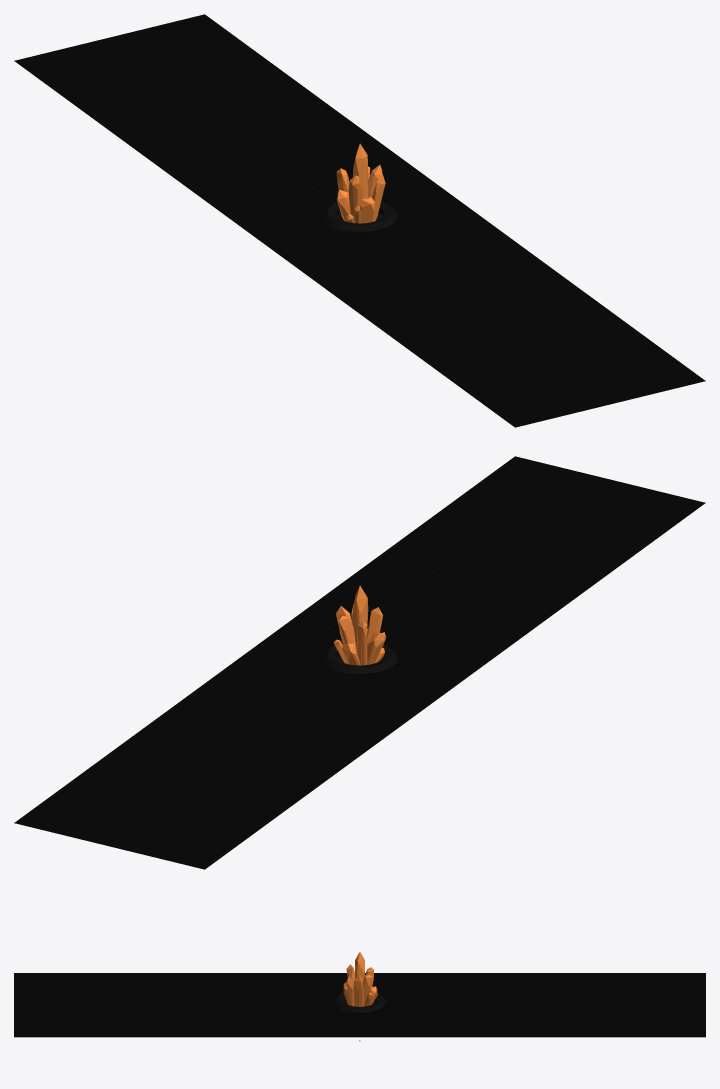
The model's file is cristal.fbx.
The picture shows the model from 3 angles, top to bottom: view 1: azimuth 30°, elevation 25°; view 2: azimuth 150°, elevation 25°; view 3: azimuth 270°, elevation 25°; orthographic projection. The views are drawn at different scales.
Parts seen in each view (by area): view 1: Plane, Cube.001, Torus.001; view 2: Plane, Cube.001, Torus.001; view 3: Plane, Cube.001, Torus.001.
Part boxes in pixels (bbox=[...]): Plane: bbox=[14, 14, 705, 427]; Cube.001: bbox=[336, 143, 385, 223]; Torus.001: bbox=[322, 201, 397, 234]; Plane: bbox=[14, 456, 705, 869]; Cube.001: bbox=[333, 585, 386, 665]; Torus.001: bbox=[322, 642, 397, 676]; Plane: bbox=[14, 973, 705, 1037]; Cube.001: bbox=[343, 952, 377, 1006]; Torus.001: bbox=[334, 992, 385, 1014].
Bounding box in the file's own units: 634 × 2851 × 688.
